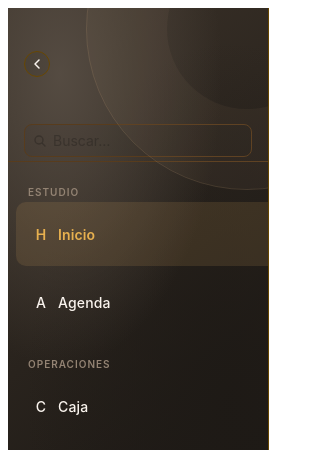
Test case: Sidebar — suksai variant — Search › filters by partial match (case-insensitive)
Type "ini" into the search field named "buscar en la navegación" at (162, 140), box [51,131,273,150]
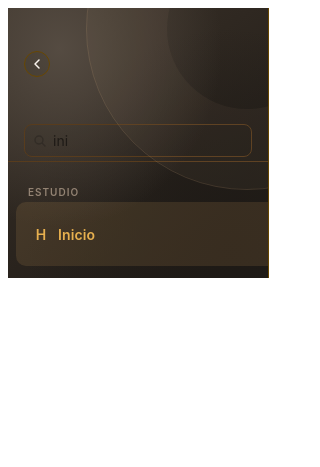
Check: the text "Inicio" is shown, box [58,226,95,242]
Check: the link "Caja" is gone
